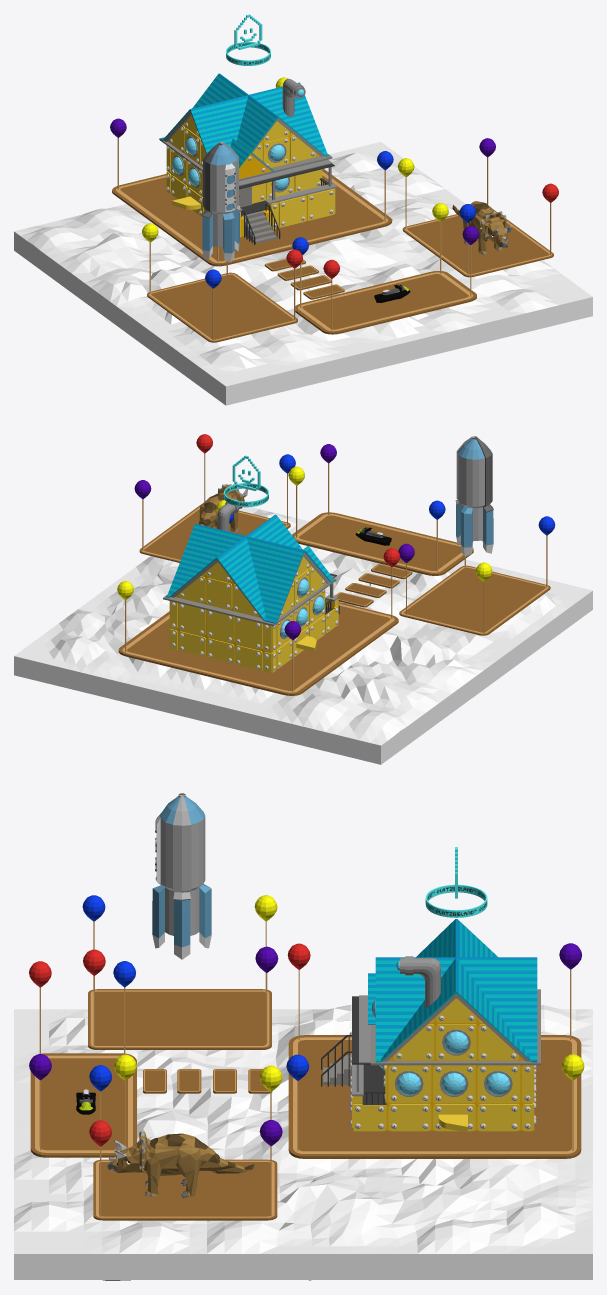
The picture shows the model from 3 angles, top to bottom: view 1: azimuth 30°, elevation 25°; view 2: azimuth 150°, elevation 25°; view 3: azimuth 270°, elevation 25°; orthographic projection. The views are drawn at different scales.
Visible parts, largest first — view 1: Cube.013, Cube.1366, OBJRANDOM_ROCKETSHIP, ANIMAL_Triceratops, TYPE_PREMIUM; view 2: Cube.013, Cube.1366, OBJRANDOM_ROCKETSHIP, ANIMAL_Triceratops, TYPE_PREMIUM; view 3: Cube.013, Cube.1366, OBJRANDOM_ROCKETSHIP, ANIMAL_Triceratops, TYPE_PREMIUM.
Boxes of the visible parts, x1,y1,x2,y2 form: Cube.013: [14, 77, 592, 405]; Cube.1366: [159, 73, 336, 244]; OBJRANDOM_ROCKETSHIP: [202, 142, 239, 262]; ANIMAL_Triceratops: [452, 201, 511, 254]; TYPE_PREMIUM: [226, 14, 270, 65]; Cube.013: [14, 434, 592, 764]; Cube.1366: [163, 499, 339, 672]; OBJRANDOM_ROCKETSHIP: [455, 436, 493, 556]; ANIMAL_Triceratops: [199, 484, 248, 531]; TYPE_PREMIUM: [224, 455, 268, 507]; Cube.013: [14, 895, 592, 1279]; Cube.1366: [321, 919, 540, 1132]; OBJRANDOM_ROCKETSHIP: [152, 793, 211, 959]; ANIMAL_Triceratops: [107, 1129, 254, 1198]; TYPE_PREMIUM: [425, 847, 487, 917].
Size of the model in its own units: 4000 by 2416 by 4000.
34 materials, 2 textured.
